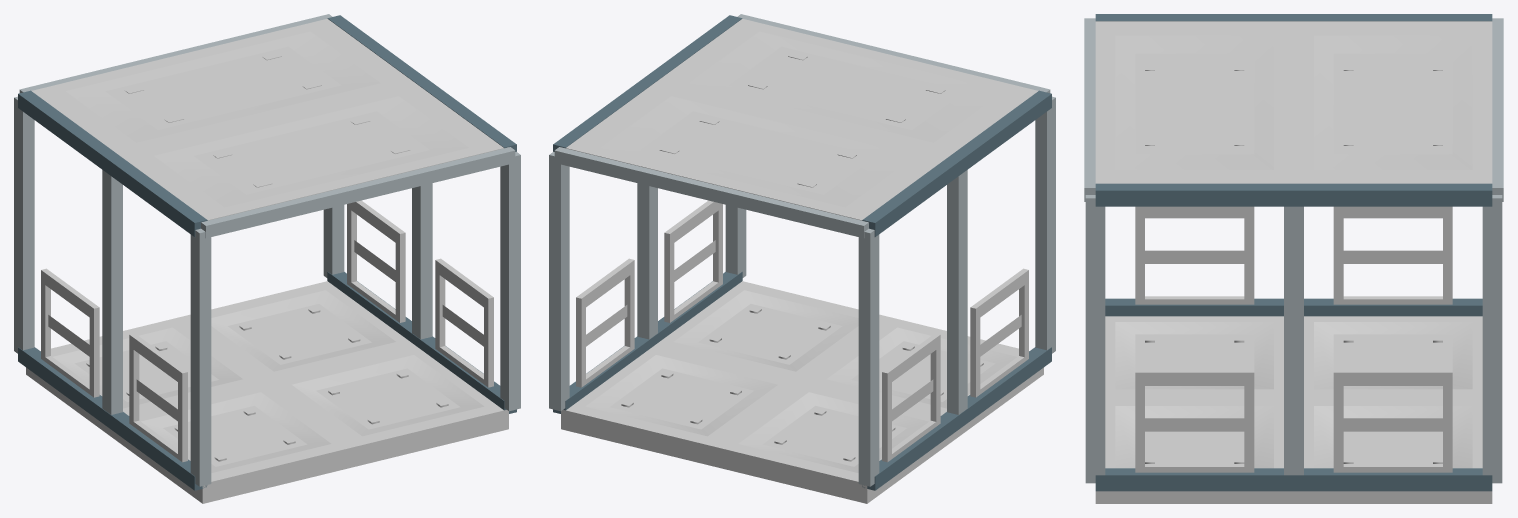
File: 02-panoramic-passage.glb
The picture shows the model from 3 angles, left to right: view 1: azimuth 30°, elevation 25°; view 2: azimuth 150°, elevation 25°; view 3: azimuth 270°, elevation 25°; orthographic projection. The views are drawn at different scales.
Parts seen in each view (by area): view 1: PARTIAL_CEILING_22, PARTIAL_CEILING_21, KIT_FLOOR_3, KIT_FLOOR_1, KIT_FLOOR_2, KIT_FLOOR_0, PASSAGE_ROOF_RIB_12, PASSAGE_POST_10, PASSAGE_POST_11, PASSAGE_POST_4, PASSAGE_POST_7, UPPER_SILL_14 (+10 smaller); view 2: PARTIAL_CEILING_21, PARTIAL_CEILING_22, KIT_FLOOR_2, KIT_FLOOR_0, KIT_FLOOR_3, KIT_FLOOR_1, PASSAGE_ROOF_RIB_6, PASSAGE_POST_4, PASSAGE_POST_5, PASSAGE_POST_10, PASSAGE_POST_7, UPPER_SILL_14 (+10 smaller); view 3: PARTIAL_CEILING_21, PARTIAL_CEILING_22, KIT_FLOOR_0, KIT_FLOOR_1, KIT_FLOOR_2, KIT_FLOOR_3, UPPER_SILL_16, LOWER_SILL_15, KIT_WINDOW_FRAME_18, KIT_WINDOW_FRAME_20, PASSAGE_POST_5, PASSAGE_POST_11 (+7 smaller).
Part boxes in pixels (left/top/right/bottom): PARTIAL_CEILING_22: left=120, top=83, right=508, bottom=220; PARTIAL_CEILING_21: left=32, top=18, right=415, bottom=155; KIT_FLOOR_3: left=268, top=346, right=508, bottom=466; KIT_FLOOR_1: left=114, top=382, right=355, bottom=503; KIT_FLOOR_2: left=179, top=281, right=415, bottom=381; KIT_FLOOR_0: left=26, top=317, right=266, bottom=438; PASSAGE_ROOF_RIB_12: left=201, top=147, right=515, bottom=238; PASSAGE_POST_10: left=190, top=228, right=211, bottom=486; PASSAGE_POST_11: left=500, top=151, right=520, bottom=411; PASSAGE_POST_4: left=14, top=96, right=34, bottom=353; PASSAGE_POST_7: left=102, top=170, right=122, bottom=414; UPPER_SILL_14: left=18, top=90, right=207, bottom=236; PARTIAL_CEILING_21: left=566, top=83, right=949, bottom=220; PARTIAL_CEILING_22: left=654, top=18, right=1037, bottom=155; KIT_FLOOR_2: left=561, top=346, right=801, bottom=466; KIT_FLOOR_0: left=714, top=382, right=955, bottom=503; KIT_FLOOR_3: left=654, top=281, right=890, bottom=381; KIT_FLOOR_1: left=803, top=317, right=1043, bottom=438; PASSAGE_ROOF_RIB_6: left=554, top=147, right=868, bottom=238; PASSAGE_POST_4: left=858, top=228, right=879, bottom=486; PASSAGE_POST_5: left=549, top=151, right=569, bottom=411; PASSAGE_POST_10: left=1035, top=96, right=1055, bottom=353; PASSAGE_POST_7: left=947, top=170, right=967, bottom=414; UPPER_SILL_14: left=862, top=90, right=1051, bottom=236; PARTIAL_CEILING_21: left=1294, top=21, right=1492, bottom=183; PARTIAL_CEILING_22: left=1095, top=21, right=1293, bottom=183; KIT_FLOOR_0: left=1304, top=316, right=1482, bottom=397; KIT_FLOOR_1: left=1105, top=316, right=1283, bottom=397; KIT_FLOOR_2: left=1294, top=397, right=1492, bottom=503; KIT_FLOOR_3: left=1095, top=397, right=1293, bottom=503; UPPER_SILL_16: left=1095, top=183, right=1492, bottom=206; LOWER_SILL_15: left=1095, top=468, right=1492, bottom=491; KIT_WINDOW_FRAME_18: left=1333, top=369, right=1452, bottom=472; KIT_WINDOW_FRAME_20: left=1135, top=369, right=1254, bottom=472; PASSAGE_POST_5: left=1482, top=195, right=1502, bottom=483; PASSAGE_POST_11: left=1085, top=195, right=1105, bottom=483.
Size of the model in its own units: 3.79 by 3.18 by 3.8.
